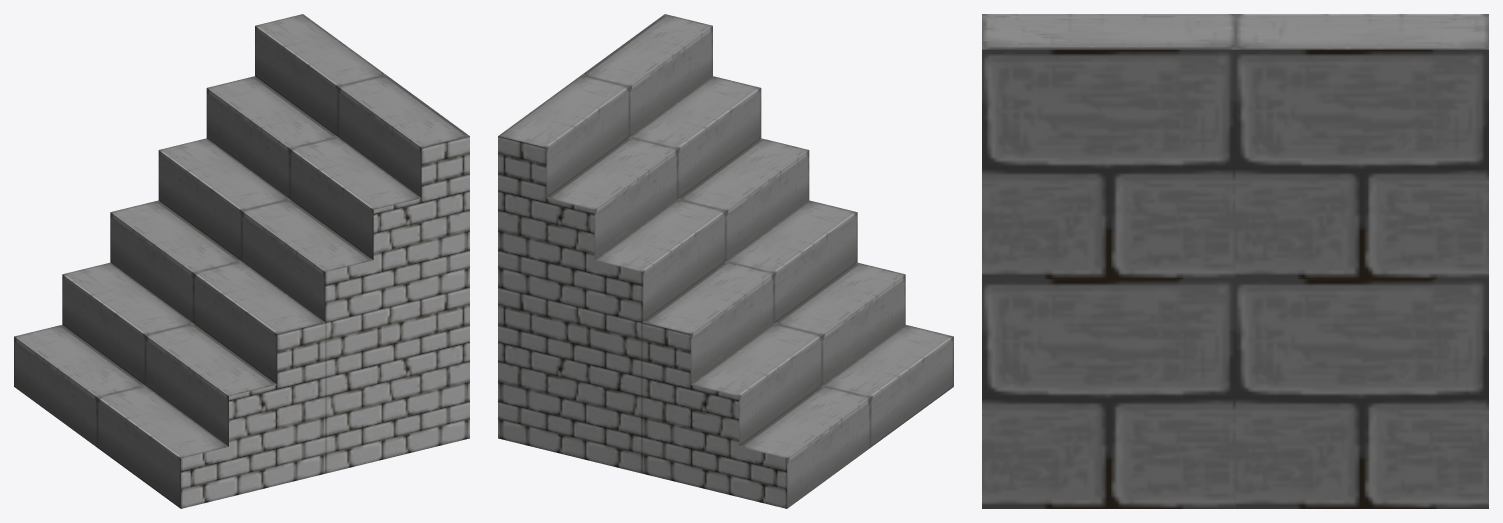
The model's file is stoneStairs2x2.fbx.
3 views of the same model, side by side, from view 1: azimuth 30°, elevation 25°; view 2: azimuth 150°, elevation 25°; view 3: azimuth 270°, elevation 25° (orthographic). The views are drawn at different scales.
Visible parts, largest first — view 1: stoneStairs2x2; view 2: stoneStairs2x2; view 3: stoneStairs2x2.
Boxes of the visible parts, left/top/right/bottom form: stoneStairs2x2: left=14, top=14, right=469, bottom=508; stoneStairs2x2: left=498, top=14, right=953, bottom=508; stoneStairs2x2: left=982, top=14, right=1488, bottom=508.
Size of the model in its own units: 200 by 200 by 200.
Materials: 1 (1 with a texture image).
